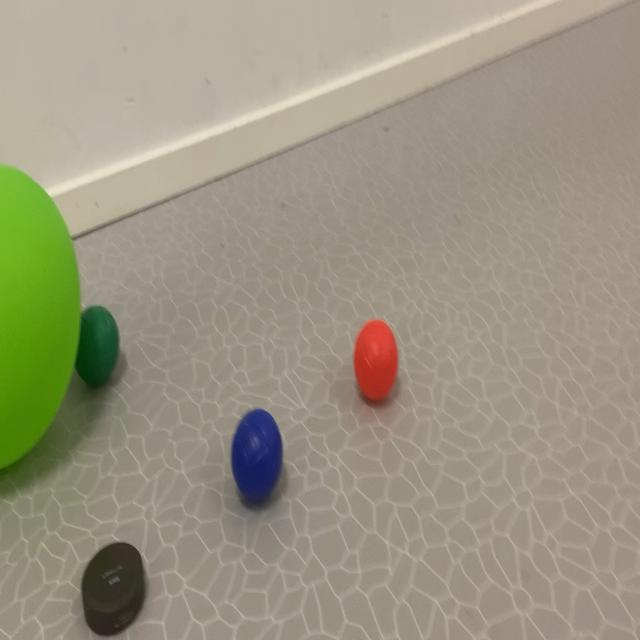7: (336, 306, 456, 500)
green ball: (191, 366, 319, 569)
red ball: (75, 291, 150, 445)
